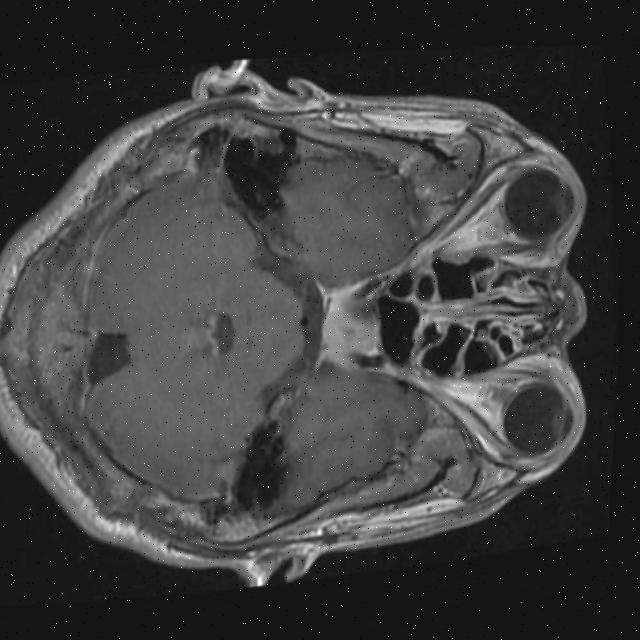Pituitary: (315, 296, 386, 361)
